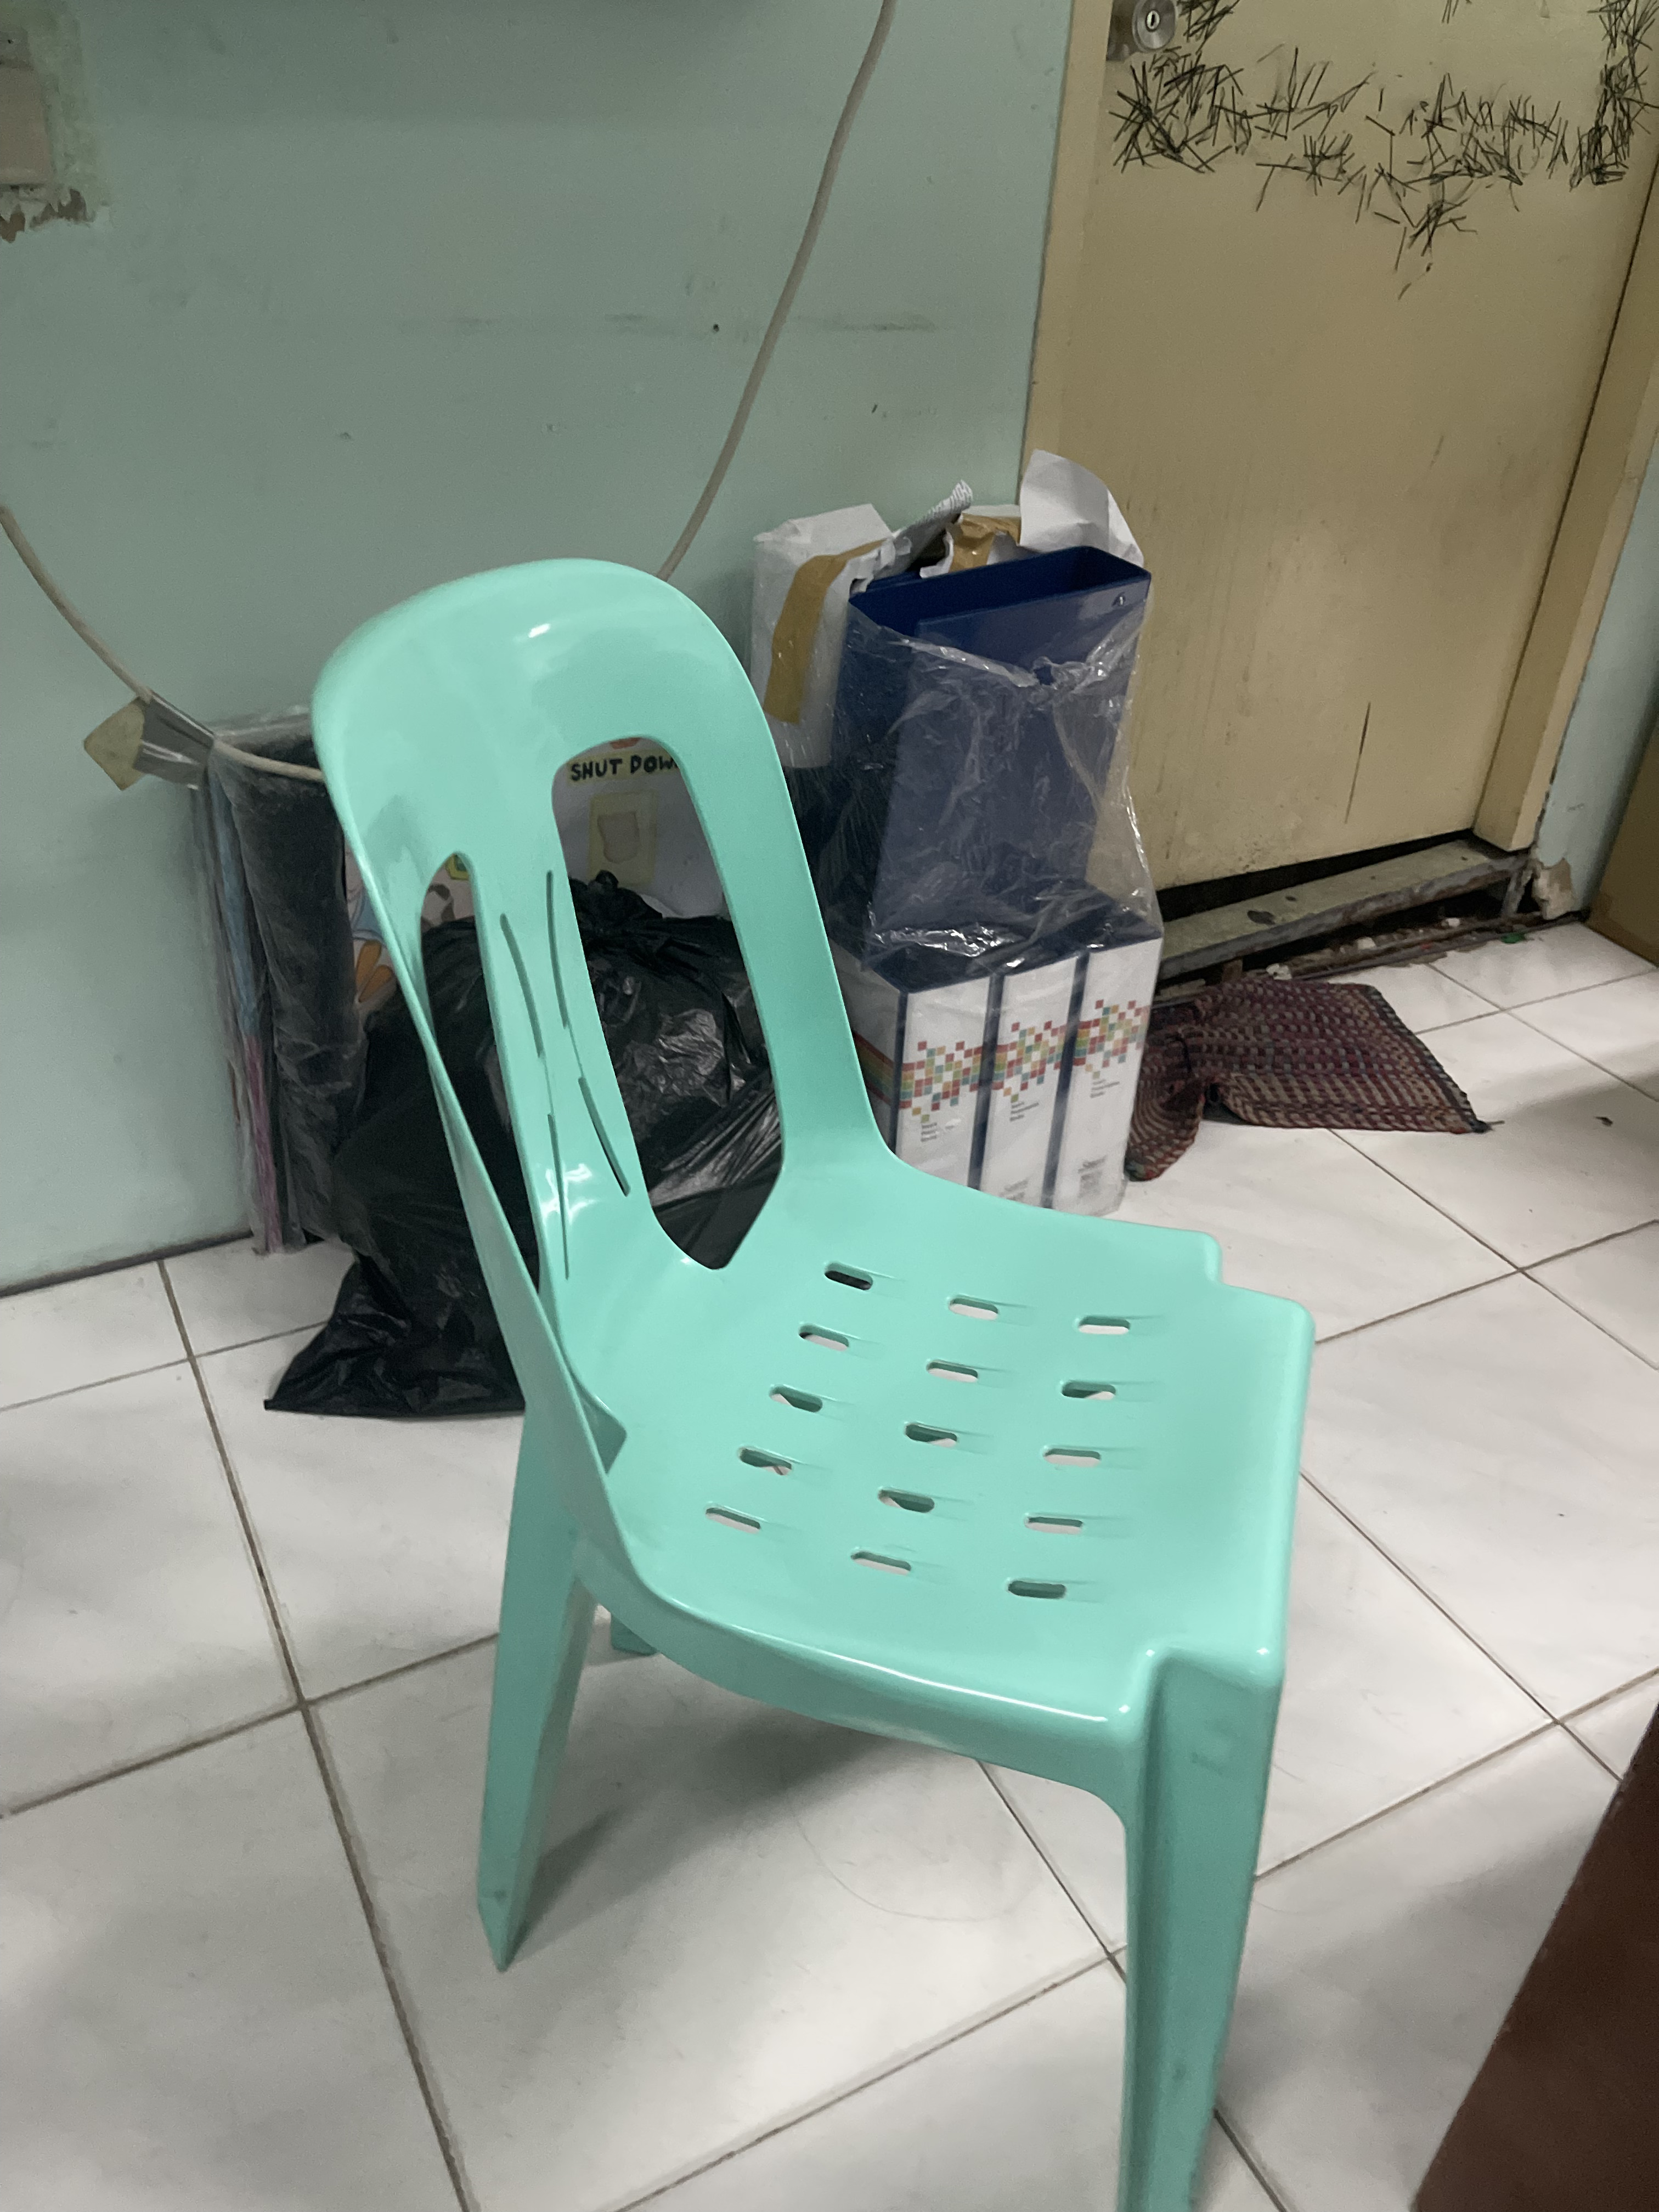chair2: (298, 550, 1333, 2212)
